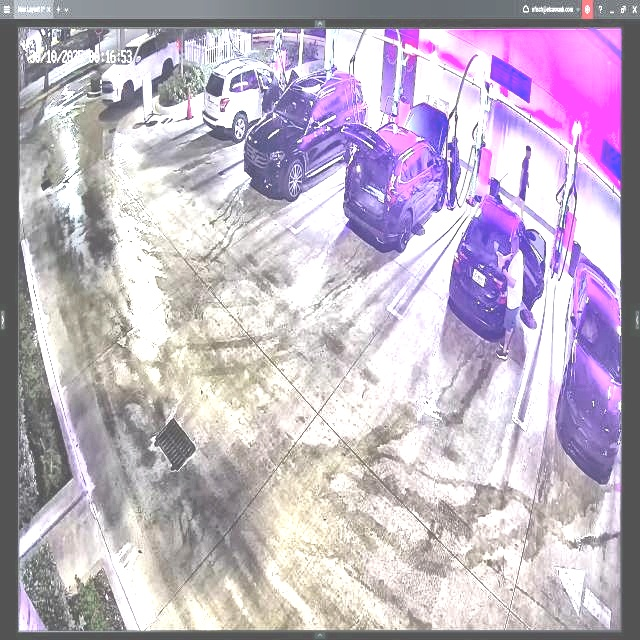Car: (341, 100, 448, 248), (244, 72, 367, 196), (452, 195, 546, 345)
